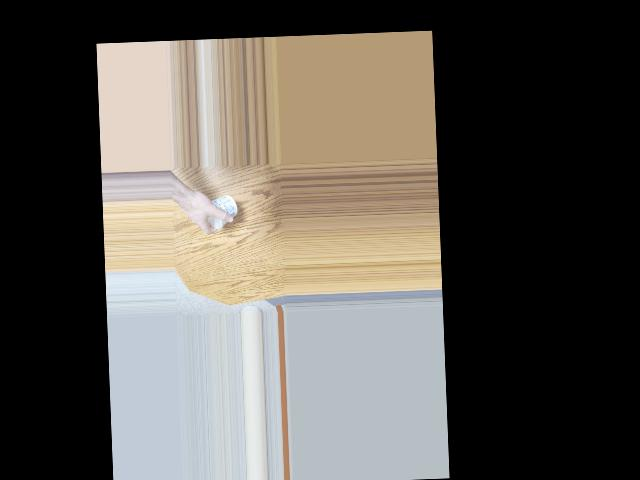cotage: (207, 191, 239, 231)
